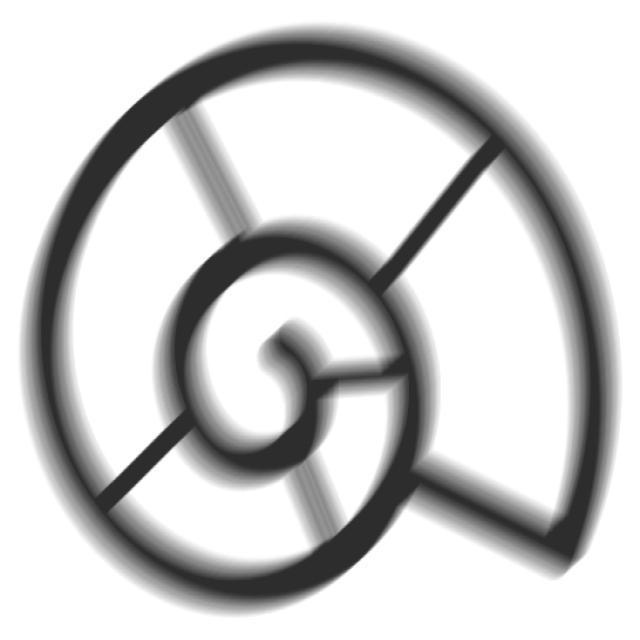fossil: (13, 15, 631, 628)
